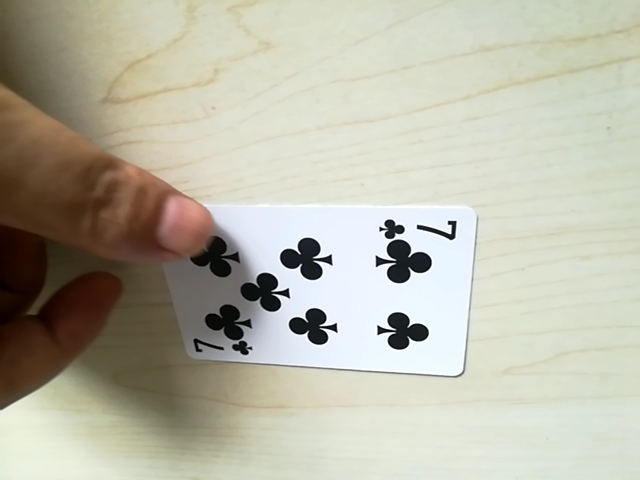mh 7: (372, 213, 457, 238), (188, 336, 255, 362)
